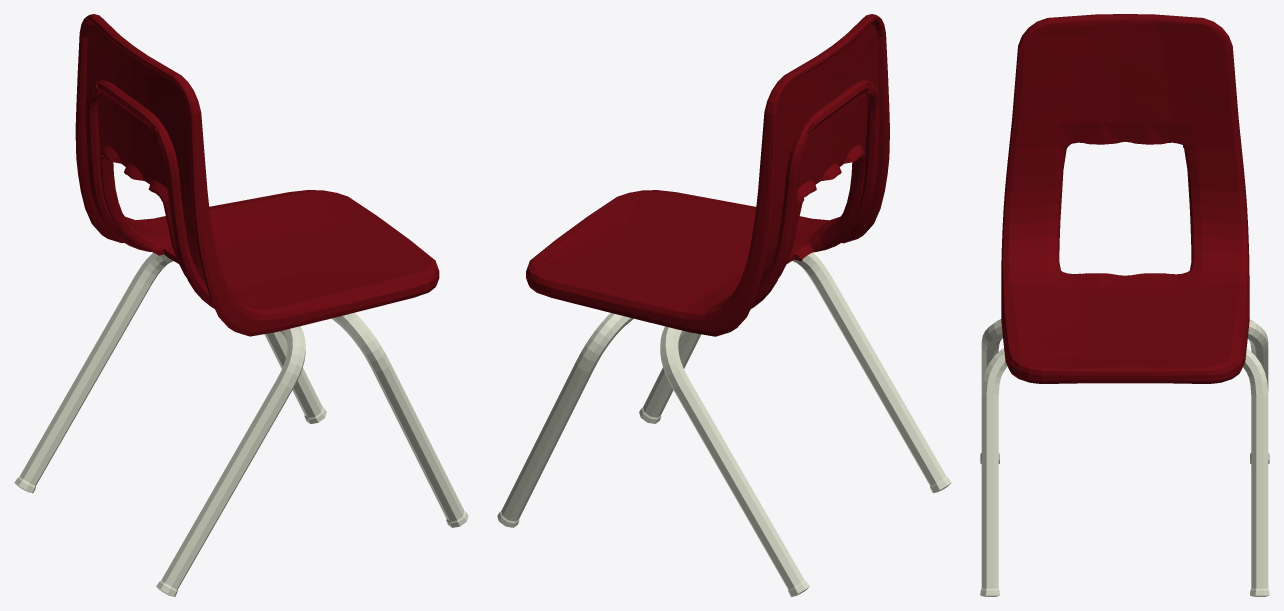
File: chairblenderfix.fbx
3 renders of one model, left to right at view 1: azimuth 30°, elevation 25°; view 2: azimuth 150°, elevation 25°; view 3: azimuth 270°, elevation 25°, orthographic. The views are drawn at different scales.
Visible parts, largest first — view 1: Mesh_Mesh_head_geo.001_lambert2SG.002; view 2: Mesh_Mesh_head_geo.001_lambert2SG.002; view 3: Mesh_Mesh_head_geo.001_lambert2SG.002.
Part boxes in pixels (x1,y1,x2,y2): Mesh_Mesh_head_geo.001_lambert2SG.002: (14,14,468,596); Mesh_Mesh_head_geo.001_lambert2SG.002: (497,14,951,596); Mesh_Mesh_head_geo.001_lambert2SG.002: (980,14,1269,596).
Bounding box in the file's own units: 6616 × 10061 × 5658.
